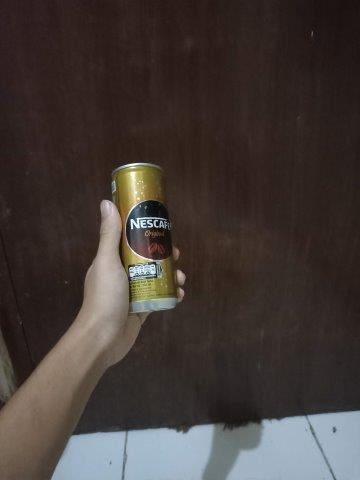kaleng: (111, 163, 178, 315)
